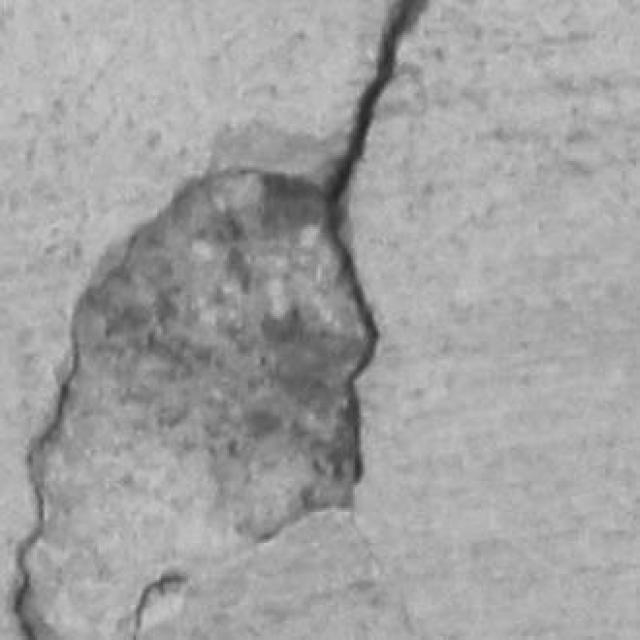crack: (19, 173, 370, 638), (324, 0, 428, 432), (326, 0, 428, 203), (14, 334, 79, 639), (132, 571, 188, 639)
